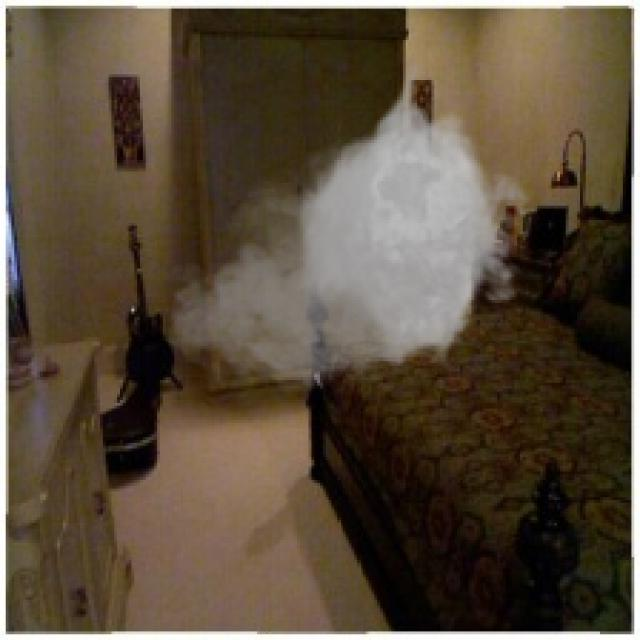smoke: (163, 54, 543, 403)
